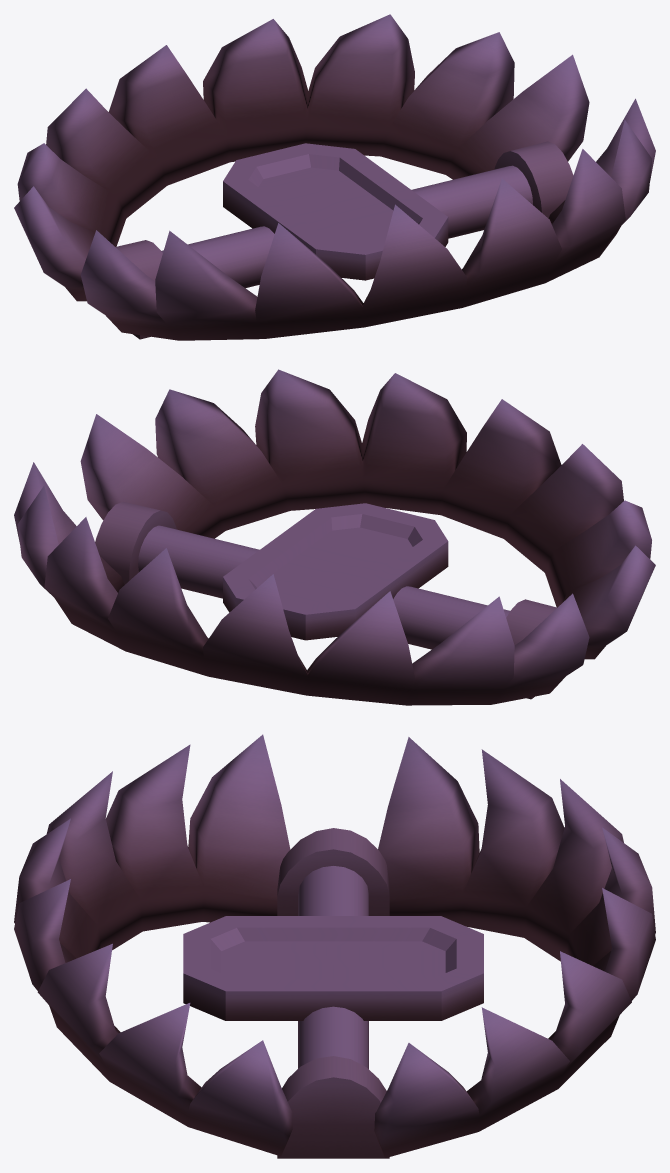
The model's file is Trap Bear Trap.fbx.
3 renders of one model, top to bottom at view 1: azimuth 30°, elevation 25°; view 2: azimuth 150°, elevation 25°; view 3: azimuth 270°, elevation 25°, orthographic. The views are drawn at different scales.
Visible parts, largest first — view 1: Trap_BearTrap; view 2: Trap_BearTrap; view 3: Trap_BearTrap.
Boxes of the visible parts, <box> form: Trap_BearTrap: <box>14,14,655,340</box>; Trap_BearTrap: <box>14,369,655,705</box>; Trap_BearTrap: <box>14,734,655,1158</box>.
Bounding box in the file's own units: 4.12 × 1.13 × 3.52.
